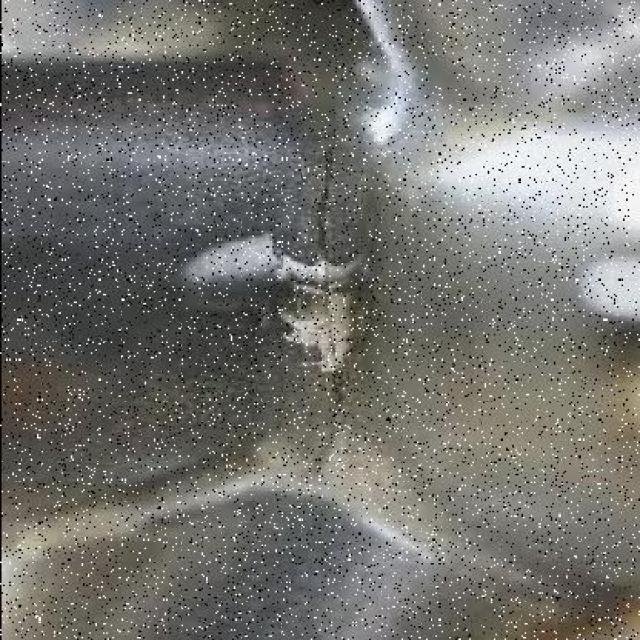Defect: (296, 126, 344, 365)
